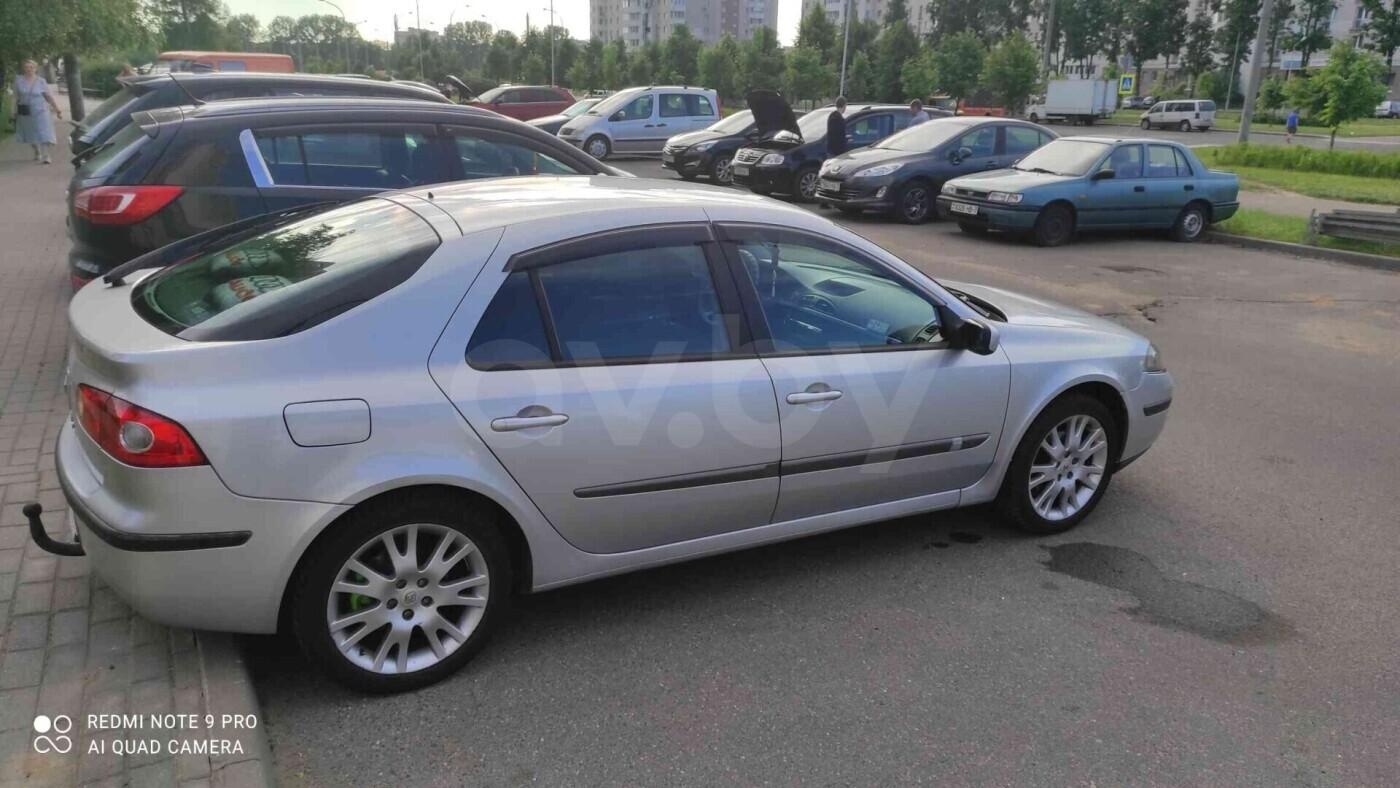Laguna_2005-2007: (47, 174, 1186, 689)
